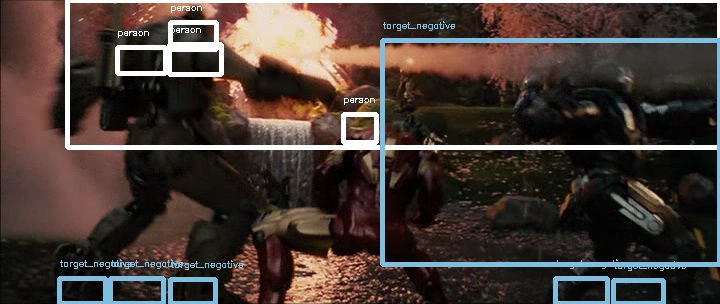person: (361, 117, 403, 154), (360, 117, 402, 154), (362, 117, 404, 154), (361, 116, 403, 153), (361, 118, 403, 155)
target_negative: (336, 165, 546, 263), (602, 68, 698, 277), (575, 213, 708, 249), (146, 280, 323, 287), (499, 233, 619, 239), (435, 101, 436, 181)
